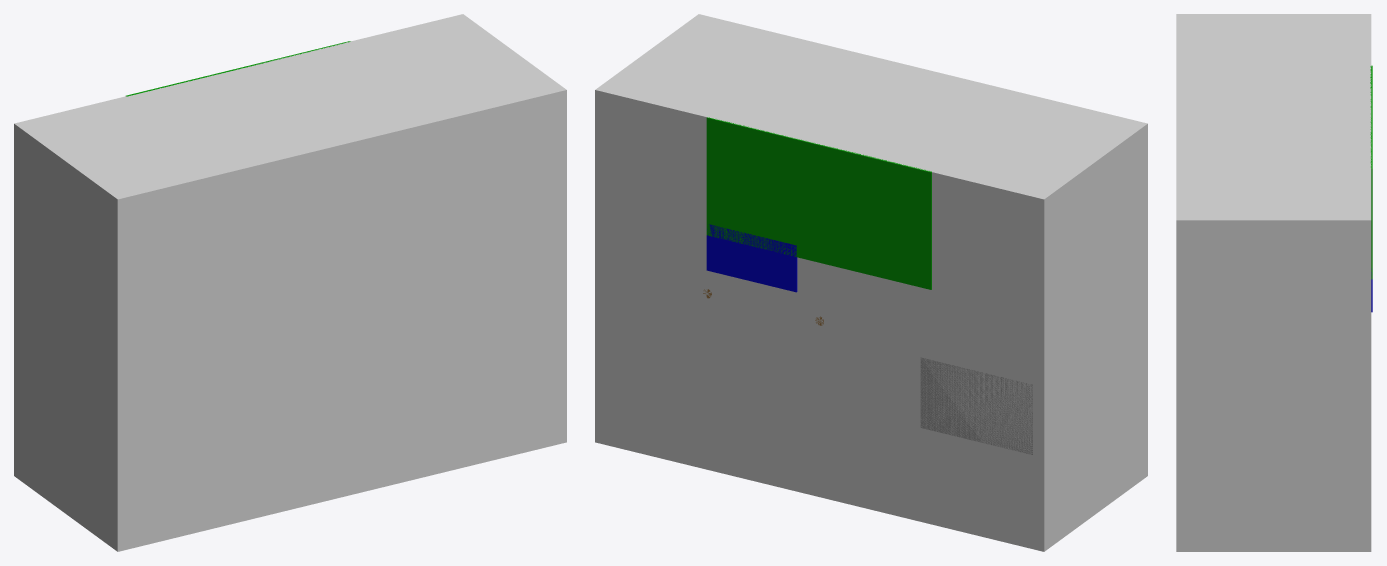
File: luxury_mansion_v1.glb
3 renders of one model, left to right at view 1: azimuth 30°, elevation 25°; view 2: azimuth 150°, elevation 25°; view 3: azimuth 270°, elevation 25°, orthographic. The views are drawn at different scales.
Visible parts, largest first — view 1: main_building; view 2: main_building, garden, garage, pool; view 3: main_building, garden.
Boxes of the visible parts, <box> form: main_building: <box>14,14,566,551</box>; main_building: <box>595,14,1147,551</box>; garden: <box>706,117,931,289</box>; garage: <box>920,357,1032,454</box>; pool: <box>706,224,797,292</box>; main_building: <box>1176,14,1371,551</box>; garden: <box>1370,65,1372,279</box>.
Size of the model in its own units: 2000 by 1500 by 805.
